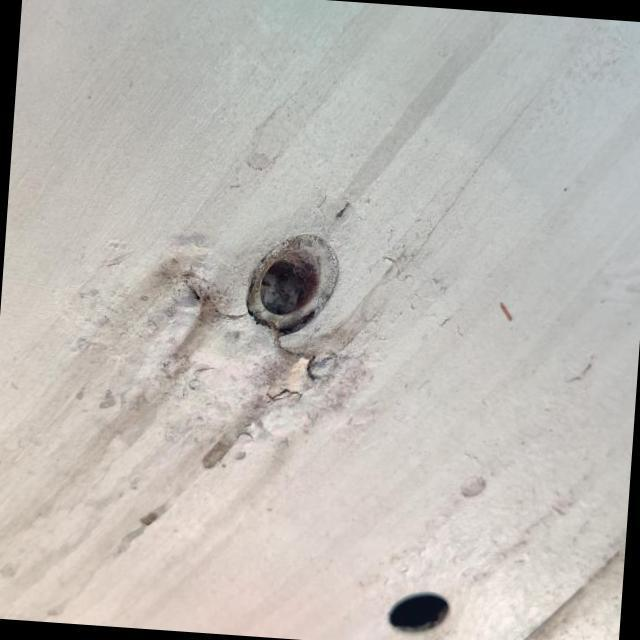Rupture: (252, 326, 347, 411)
